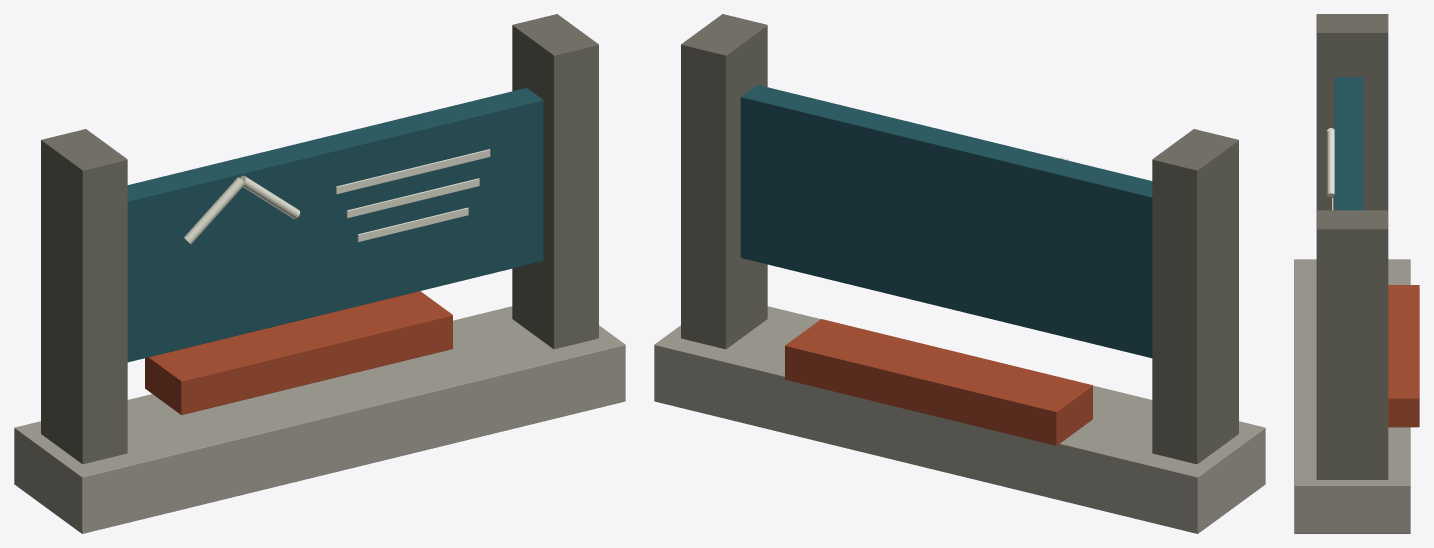
File: malaysia-taman-entrance-sign.glb
3 renders of one model, left to right at view 1: azimuth 30°, elevation 25°; view 2: azimuth 150°, elevation 25°; view 3: azimuth 270°, elevation 25°, orthographic. The views are drawn at different scales.
Parts seen in each view (by area): view 1: Replaceable_Board, Plinth, Pillar, Pillar.001, Planter, Replaceable_Label_Line, Replaceable_Label_Line.001, Replaceable_Label_Line.002, Roof_Motif_Left, Roof_Motif_Right; view 2: Replaceable_Board, Plinth, Pillar, Pillar.001, Planter; view 3: Pillar.001, Plinth, Pillar, Planter, Replaceable_Board, Roof_Motif_Right.
Part boxes in pixels (x1=…): Replaceable_Board: x1=127, y1=88, x2=543, y2=362; Plinth: x1=14, y1=306, x2=625, y2=533; Pillar: x1=41, y1=129, x2=127, y2=464; Pillar.001: x1=512, y1=14, x2=598, y2=349; Planter: x1=145, y1=291, x2=452, y2=415; Replaceable_Label_Line: x1=336, y1=149, x2=490, y2=194; Replaceable_Label_Line.001: x1=346, y1=178, x2=479, y2=218; Replaceable_Label_Line.002: x1=357, y1=207, x2=468, y2=241; Roof_Motif_Left: x1=184, y1=177, x2=244, y2=244; Roof_Motif_Right: x1=240, y1=175, x2=300, y2=219; Replaceable_Board: x1=740, y1=85, x2=1152, y2=358; Plinth: x1=654, y1=306, x2=1265, y2=533; Pillar: x1=1152, y1=129, x2=1238, y2=464; Pillar.001: x1=681, y1=14, x2=767, y2=349; Planter: x1=785, y1=319, x2=1092, y2=445; Pillar.001: x1=1316, y1=210, x2=1388, y2=479; Plinth: x1=1294, y1=259, x2=1410, y2=533; Pillar: x1=1316, y1=14, x2=1388, y2=210; Planter: x1=1388, y1=285, x2=1419, y2=427; Replaceable_Board: x1=1334, y1=77, x2=1363, y2=210; Roof_Motif_Right: x1=1326, y1=130, x2=1334, y2=197.
Bounding box in the file's own units: 3 × 1.85 × 0.7.
